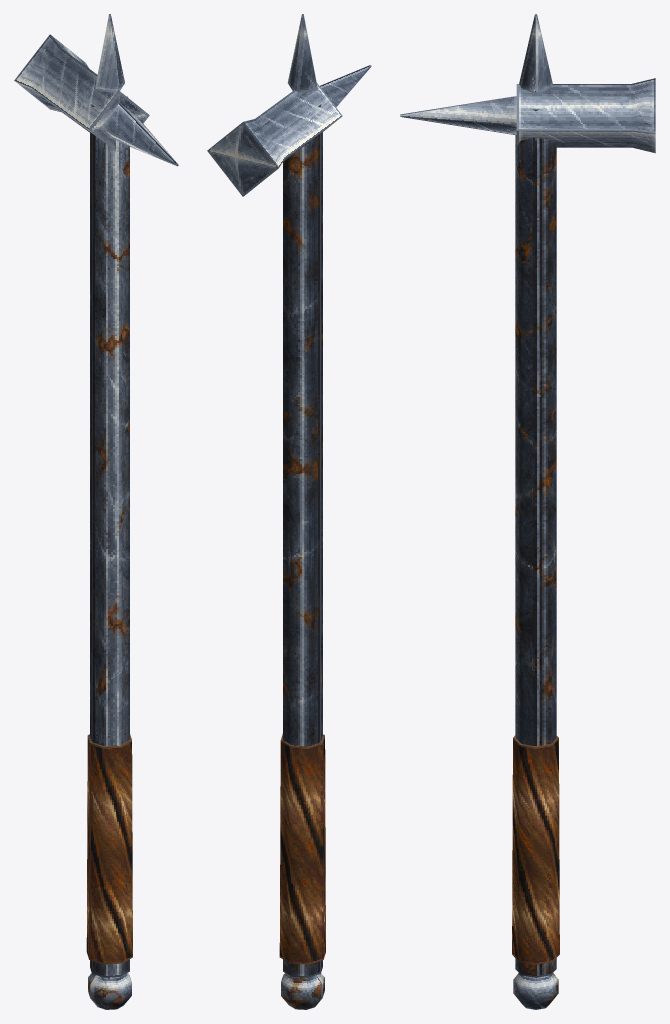
The model's file is war_hammer.glb.
3 renders of one model, left to right at view 1: azimuth 30°, elevation 25°; view 2: azimuth 150°, elevation 25°; view 3: azimuth 270°, elevation 25°, orthographic.
Parts seen in each view (by area): view 1: war_hammer; view 2: war_hammer; view 3: war_hammer.
Boxes of the visible parts, <box> form: war_hammer: <box>14,14,178,1009</box>; war_hammer: <box>207,14,371,1009</box>; war_hammer: <box>400,14,655,1009</box>.
Bounding box in the file's own units: 0.052 × 0.687 × 0.16.
1 material, 1 textured.
